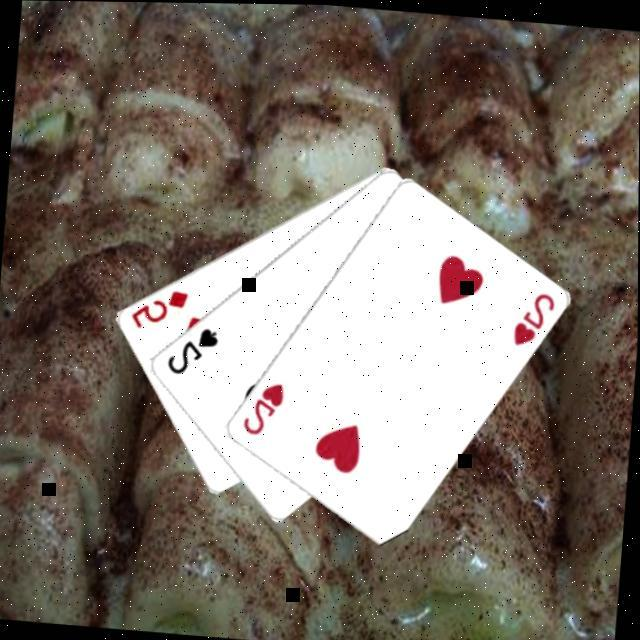2H: (510, 284, 560, 348), (240, 374, 289, 438)
2S: (165, 320, 224, 378)
5D: (128, 282, 192, 334)
